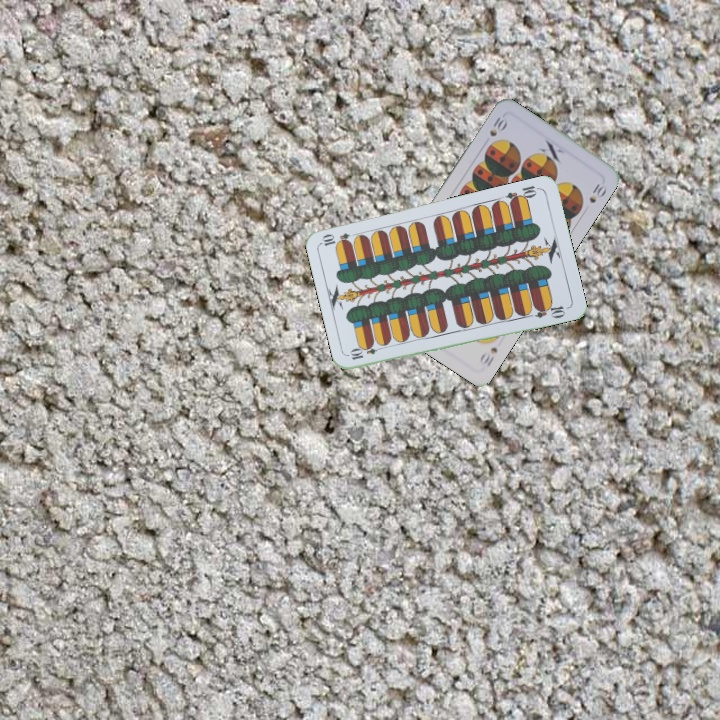E10: (502, 181, 542, 207), (346, 341, 387, 362)
S10: (485, 113, 509, 139), (476, 343, 500, 369)
